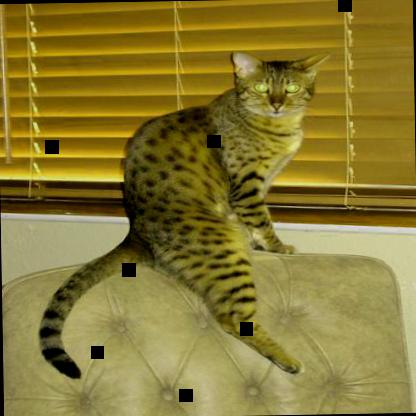cat: (31, 50, 335, 380)
